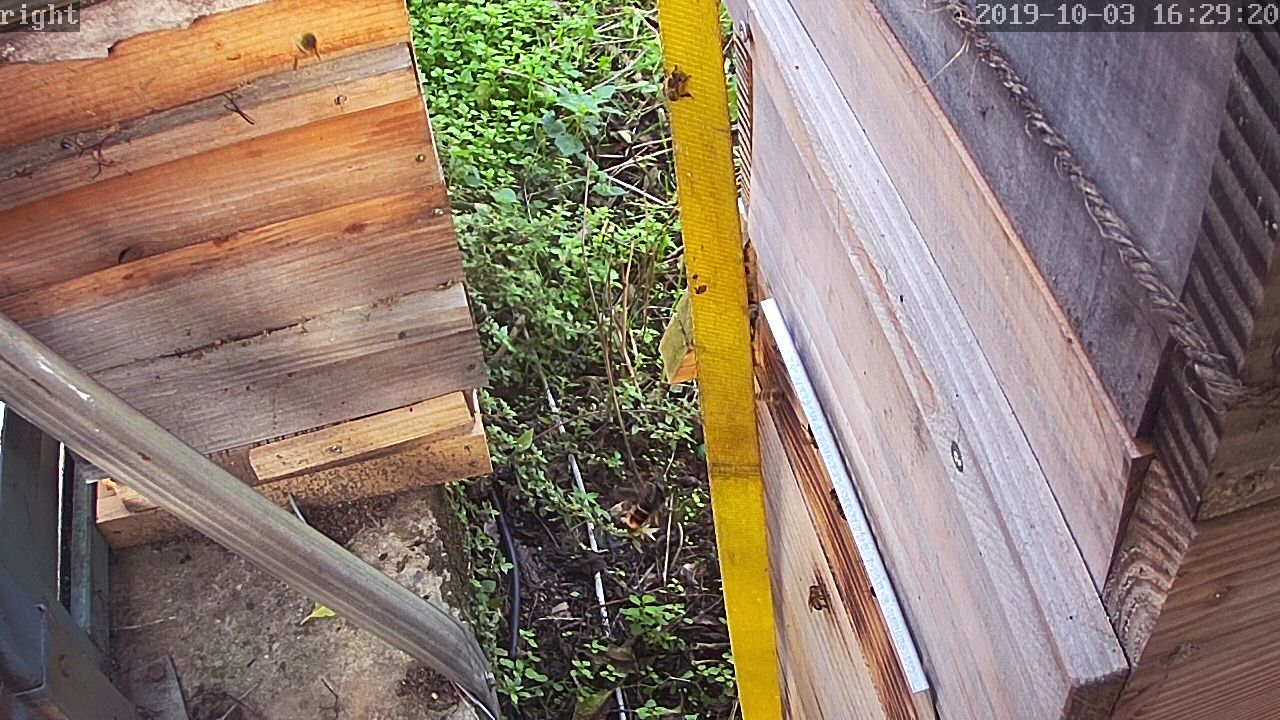bee: (796, 580, 833, 611)
hornet: (610, 480, 676, 536)
